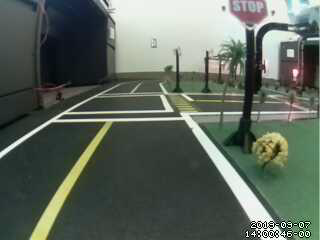Stop_Sign: (230, 1, 271, 25)
